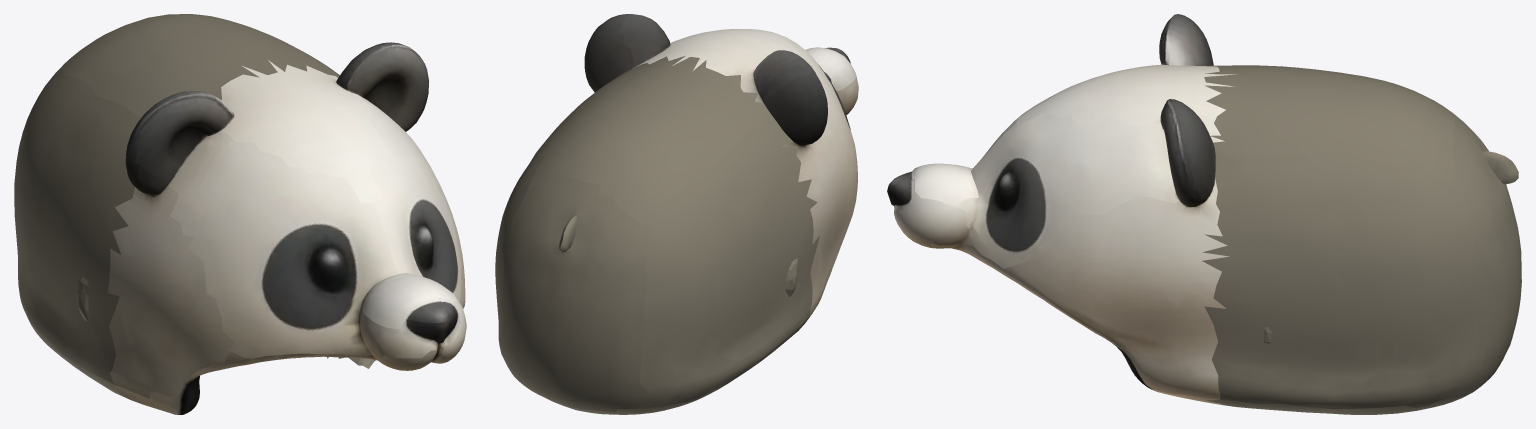
The model's file is panda.glb.
3 views of the same model, side by side, from view 1: azimuth 30°, elevation 25°; view 2: azimuth 150°, elevation 25°; view 3: azimuth 270°, elevation 25° (orthographic). The views are drawn at different scales.
Visible parts, largest first — view 1: geometry_0, HoodAnatomicalLining; view 2: geometry_0, HoodAnatomicalLining; view 3: geometry_0.
Part boxes in pixels (left/top/right/bottom): geometry_0: left=14, top=14, right=466, bottom=414; HoodAnatomicalLining: left=76, top=277, right=375, bottom=368; geometry_0: left=495, top=14, right=858, bottom=414; HoodAnatomicalLining: left=785, top=258, right=798, bottom=296; geometry_0: left=887, top=14, right=1521, bottom=414.
Size of the model in its own units: 0.4607 by 0.5117 by 0.9179.
Materials: 2 (1 with a texture image).
